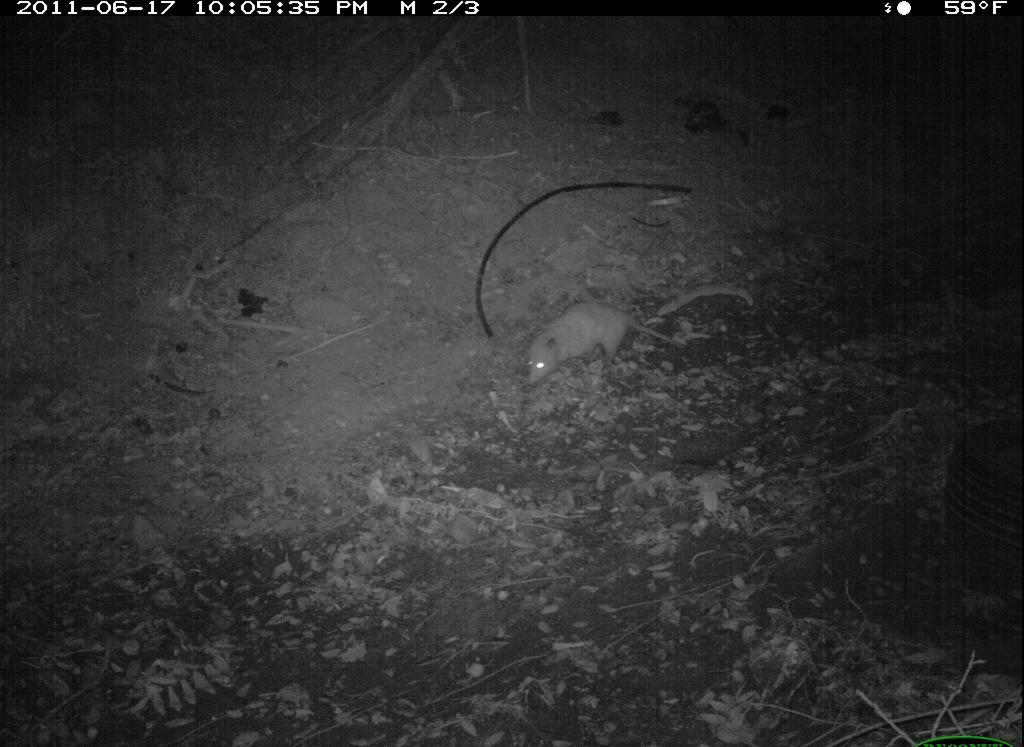opossum: (519, 291, 667, 392)
